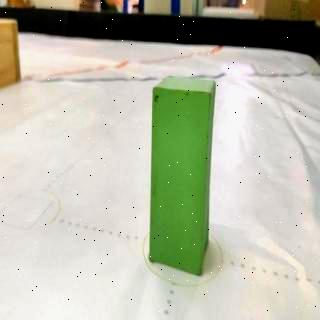greenbox: (148, 72, 218, 276)
